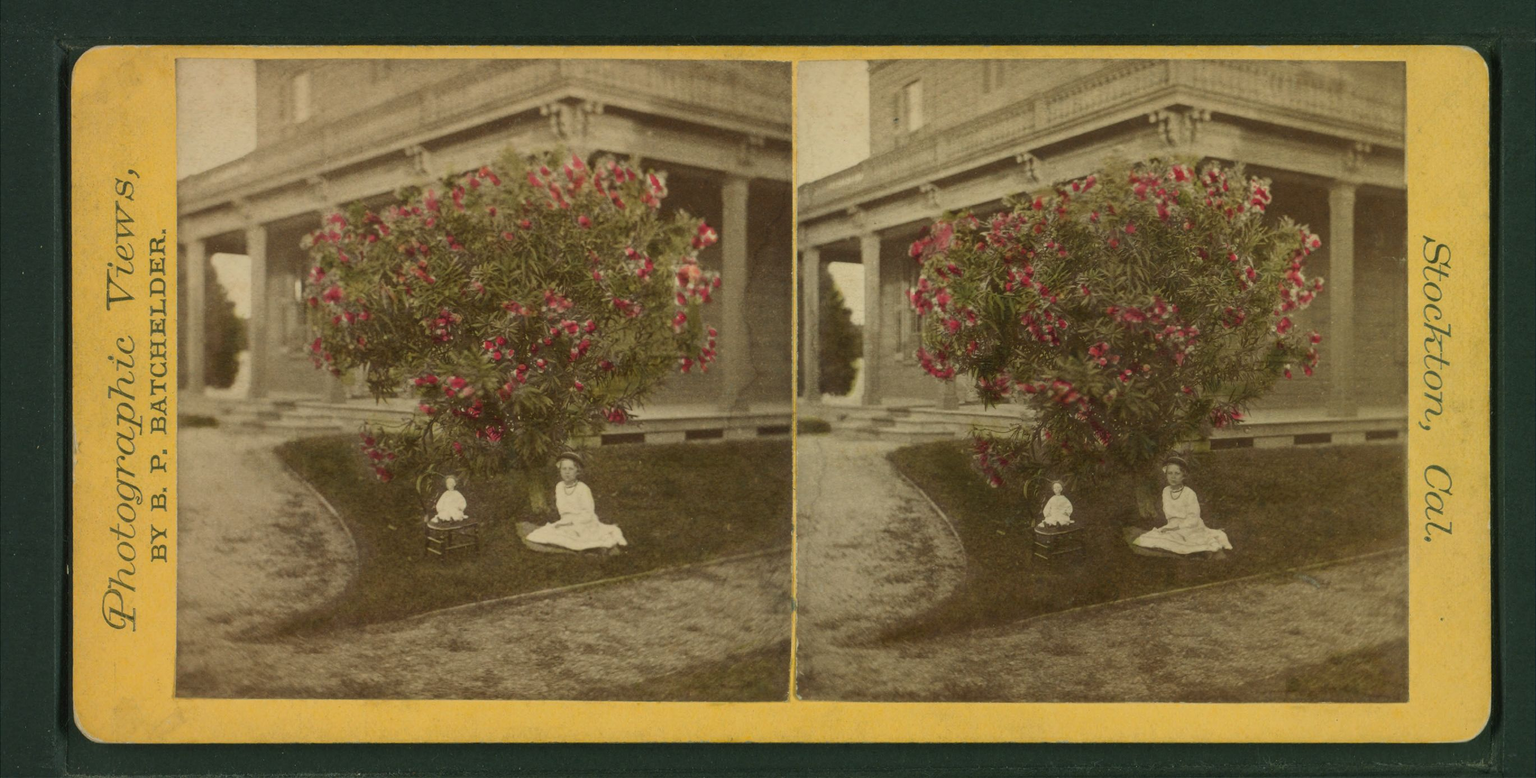half_image: (175, 56, 792, 702), (795, 61, 1407, 704)
